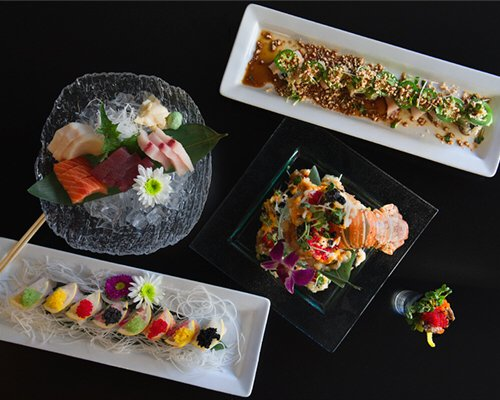sushi: (26, 72, 223, 257)
